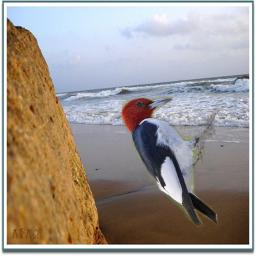Woodpecker: (118, 92, 223, 229)
